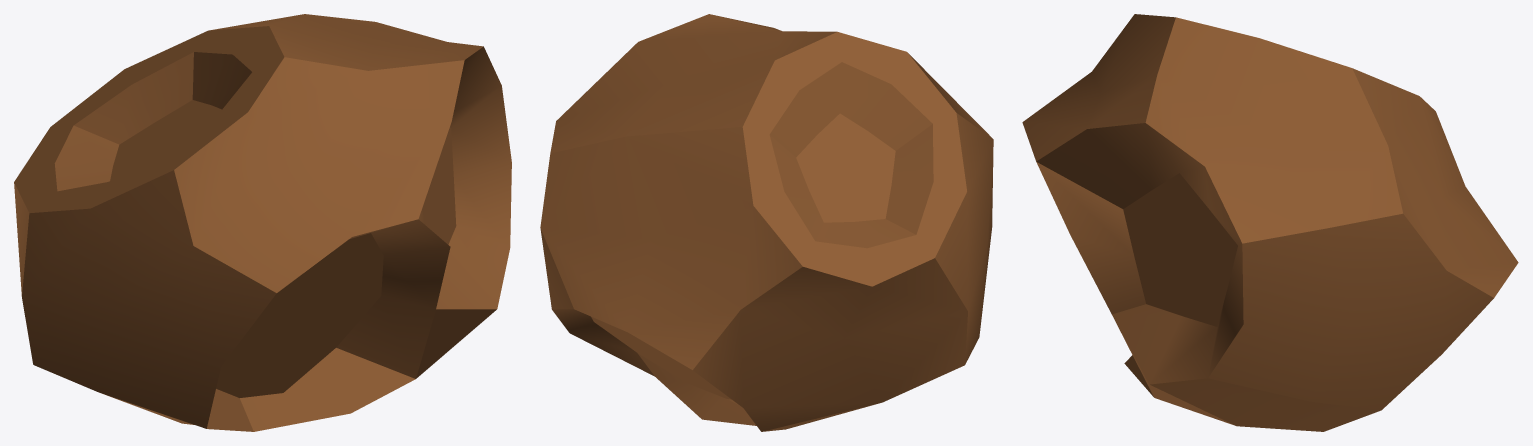
The model's file is Meteor.fbx.
3 renders of one model, left to right at view 1: azimuth 30°, elevation 25°; view 2: azimuth 150°, elevation 25°; view 3: azimuth 270°, elevation 25°, orthographic. The views are drawn at different scales.
Parts seen in each view (by area): view 1: Meteor; view 2: Meteor; view 3: Meteor.
Part boxes in pixels (<box>): Meteor: <box>14,14,511,431</box>; Meteor: <box>540,14,993,431</box>; Meteor: <box>1022,14,1518,431</box>.
Bounding box in the file's own units: 2.74 × 2.18 × 2.64.
